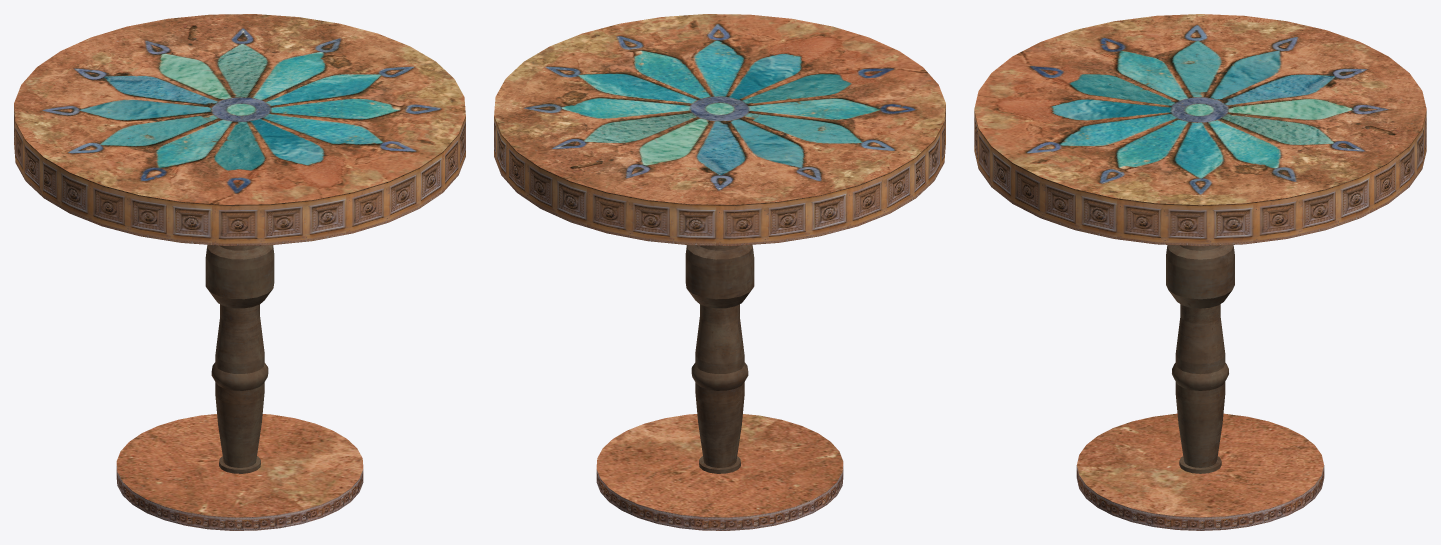
Rendered from Table.fbx.
3 renders of one model, left to right at view 1: azimuth 30°, elevation 25°; view 2: azimuth 150°, elevation 25°; view 3: azimuth 270°, elevation 25°, orthographic.
Visible parts, largest first — view 1: Table; view 2: Table; view 3: Table.
Part boxes in pixels (box(x1,y1,x2,y2)): Table: box(14, 14, 465, 530); Table: box(494, 14, 945, 530); Table: box(974, 14, 1426, 530).
Bounding box in the file's own units: 100 × 89.99 × 100.
1 material, 1 textured.
